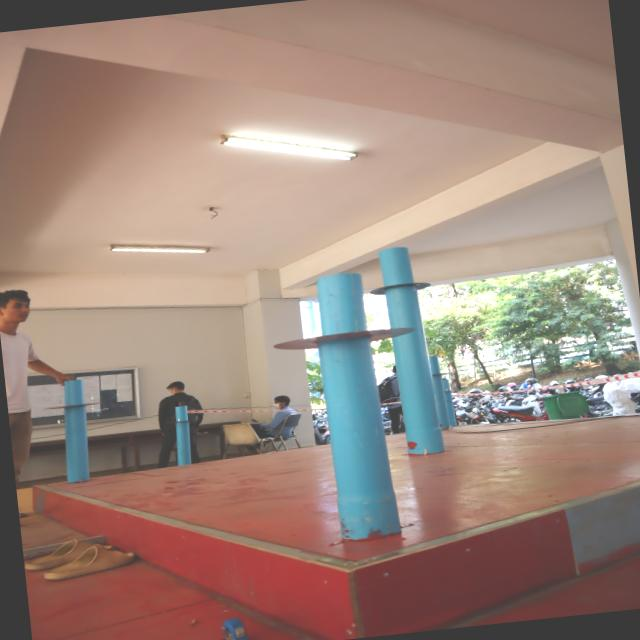pole: (262, 274, 410, 389), (358, 238, 438, 314), (40, 375, 106, 429), (160, 398, 212, 440)
